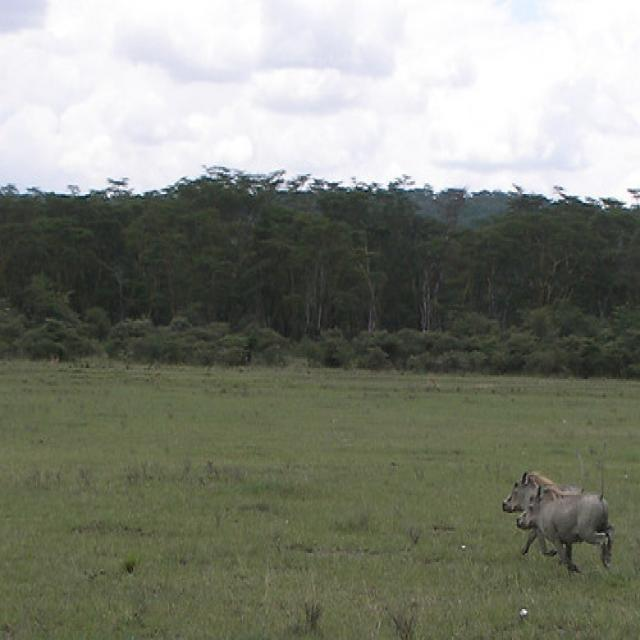boar: (505, 454, 637, 586), (489, 444, 617, 564)
